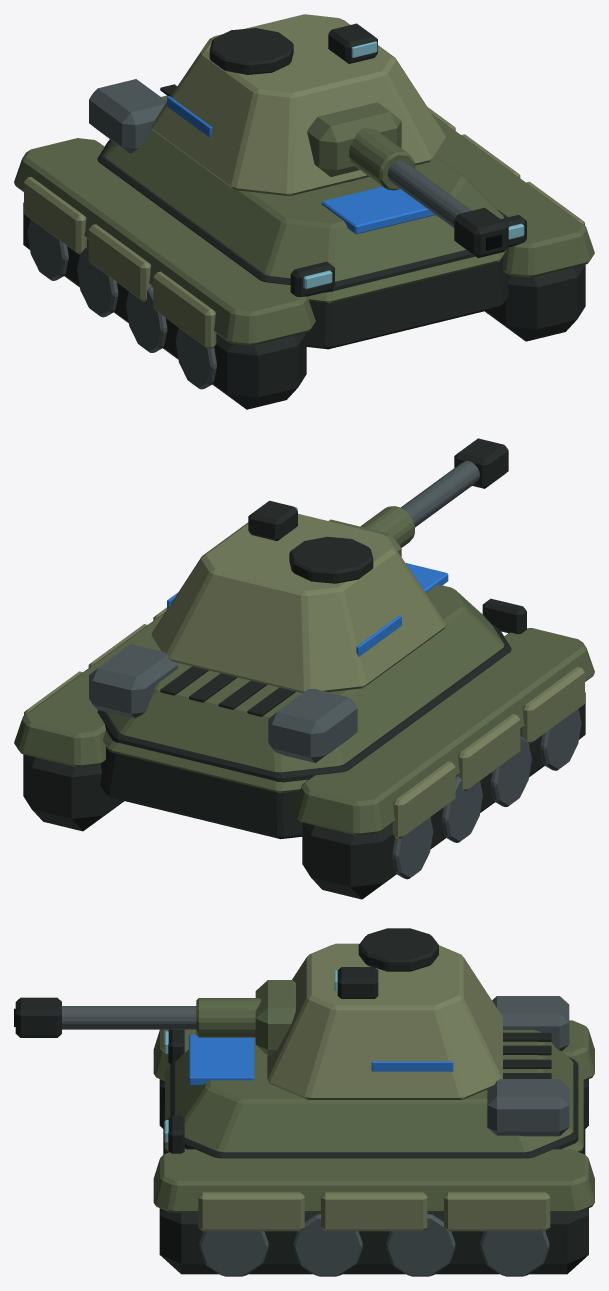
The model's file is h_tank.glb.
3 views of the same model, one above another, from view 1: azimuth 30°, elevation 25°; view 2: azimuth 150°, elevation 25°; view 3: azimuth 270°, elevation 25° (orthographic). The views are drawn at different scales.
Parts seen in each view (by area): view 1: Chassis, Turret armor, Gun; view 2: Chassis, Turret armor, Gun; view 3: Chassis, Turret armor, Gun.
Boxes of the visible parts, <box> form: Chassis: <box>14,79,594,409</box>; Turret armor: <box>151,14,445,196</box>; Gun: <box>349,127,508,257</box>; Chassis: <box>14,563,594,899</box>; Turret armor: <box>151,500,445,692</box>; Gun: <box>360,438,508,547</box>; Chassis: <box>153,996,594,1276</box>; Turret armor: <box>255,928,502,1099</box>; Gun: <box>14,997,260,1037</box>.
Size of the model in its own units: 3.05 by 1.99 by 4.26.
